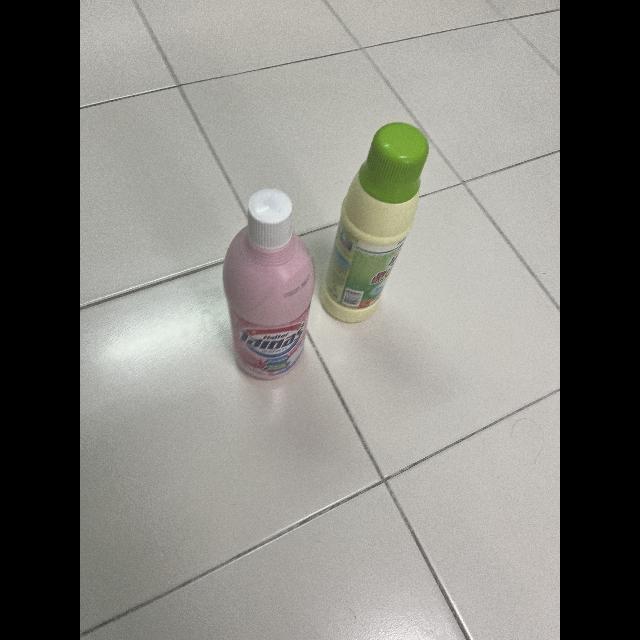chemical_plastic_bottle: (317, 116, 429, 322), (225, 186, 313, 380)
